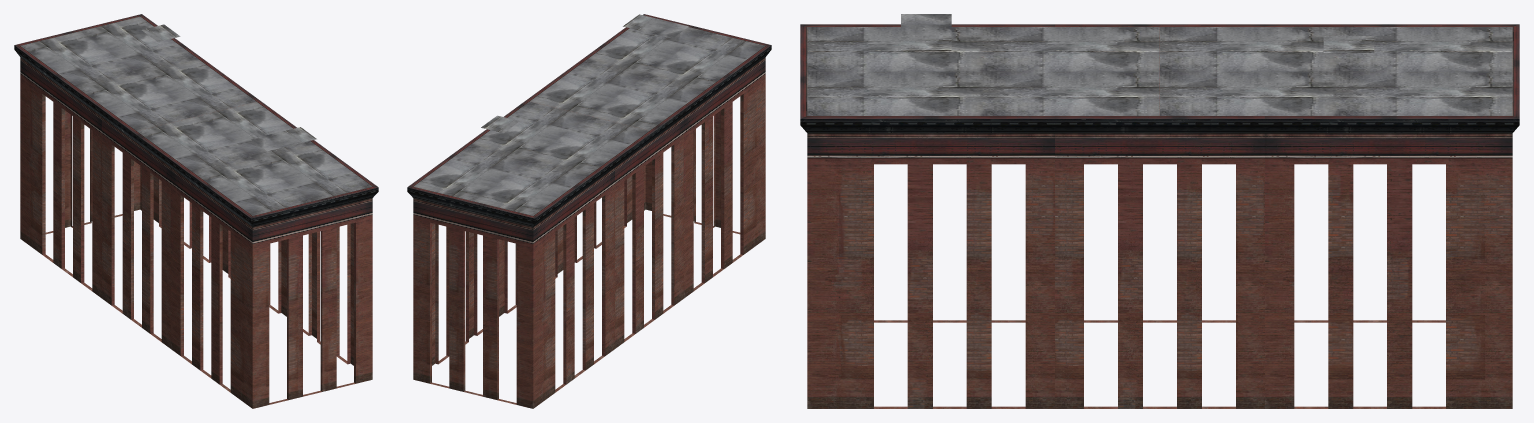
The model's file is downtown_brownstoneoffice_2_b.glb.
The picture shows the model from 3 angles, left to right: view 1: azimuth 30°, elevation 25°; view 2: azimuth 150°, elevation 25°; view 3: azimuth 270°, elevation 25°; orthographic projection. The views are drawn at different scales.
Parts seen in each view (by area): view 1: Downtown_BrownstoneOffice_2_Brownstone_Facade_Flr_2_0; view 2: Downtown_BrownstoneOffice_2_Brownstone_Facade_Flr_2_0; view 3: Downtown_BrownstoneOffice_2_Brownstone_Facade_Flr_2_0.
Part boxes in pixels (bbox=[...]): Downtown_BrownstoneOffice_2_Brownstone_Facade_Flr_2_0: bbox=[14, 14, 378, 408]; Downtown_BrownstoneOffice_2_Brownstone_Facade_Flr_2_0: bbox=[407, 14, 771, 408]; Downtown_BrownstoneOffice_2_Brownstone_Facade_Flr_2_0: bbox=[800, 14, 1519, 408].
Size of the model in its own units: 11.93 by 19.99 by 38.35.
Materials: 1 (1 with a texture image).
